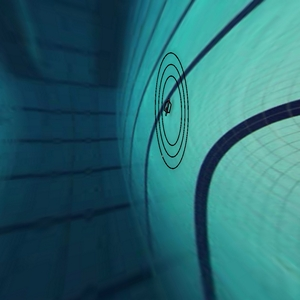circle: (125, 41, 233, 180)
submarine: (161, 96, 180, 124)
